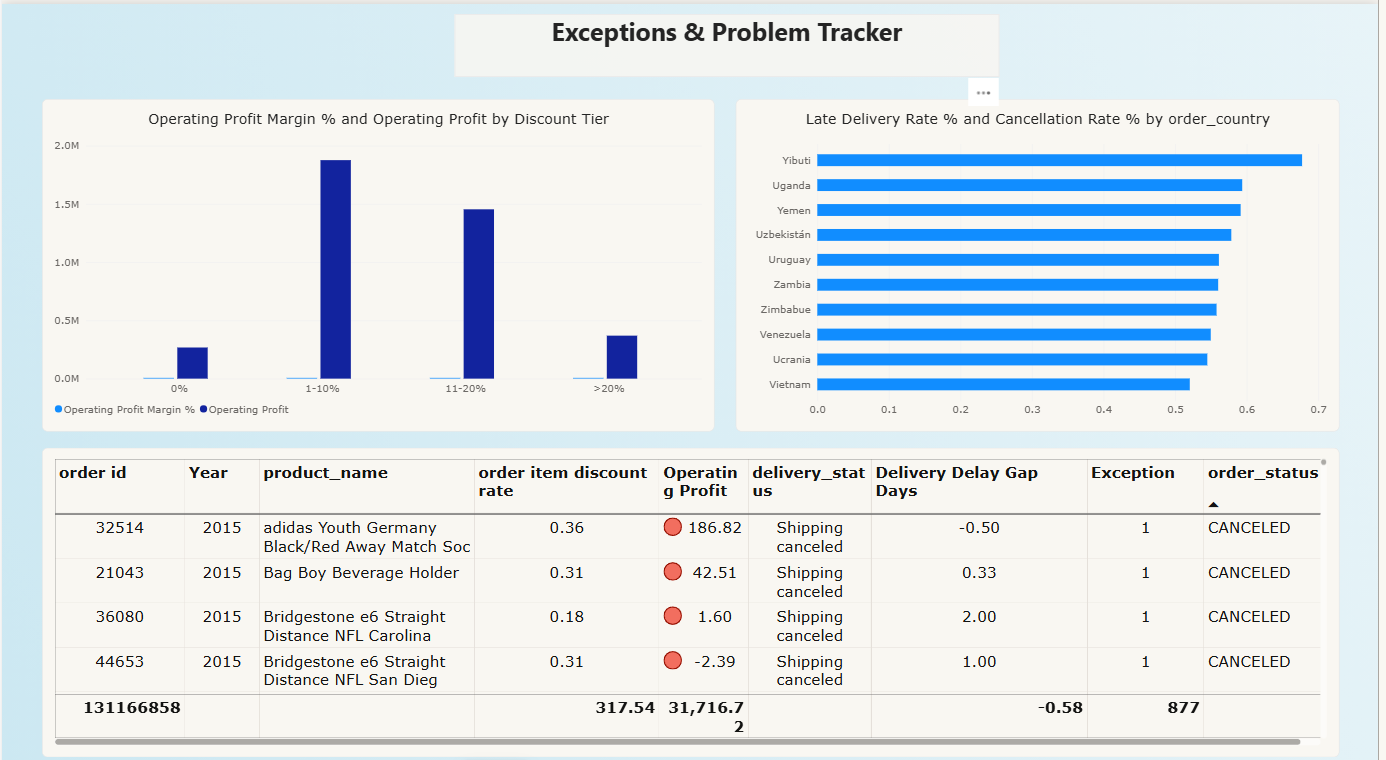

Layout of this report page (visuals, bound fields, positions):
{"tool":"powerbi","page":{"name":"Page 4","canvas":[1920,1080],"ordinal":3},"visuals":[{"type":"clusteredColumnChart","fields":{"Category":["fact_order_items.Discount Tier"],"Y":["_measure.Operating Profit Margin %","_measure.Operating Profit"]},"box":[56,132,938,464],"z":0},{"type":"clusteredBarChart","fields":{"Category":["fact_order_items.order_country"],"Y":["_measure.Late Delivery Rate %"]},"box":[1024,132,842,464],"z":1000},{"type":"tableEx","fields":{"Values":["Sum(fact_order_items.order_id)","fact_order_items.order_date.Variation.Date Hierarchy.Year","fact_order_items.product_name","Sum(fact_order_items.order_item_discount_rate)","_measure.Operating Profit","fact_order_items.delivery_status","_measure.Delivery Delay Gap Days","Sum(fact_order_items.Exception)","fact_order_items.order_status"]},"box":[56,620,1810,432],"z":2000},{"type":"textbox","title":"Exceptions & Problem Tracker","box":[632,14,760,88],"z":3000}]}

Visuals, with their boxes in screenshot pixels (x1, y1, x2, y2), scaled from the page's 1920x1080 canvas onto the 1386x760 screenshot:
clusteredColumnChart - fact_order_items.Discount Tier x _measure.Operating Profit Margin %: {"x1": 40, "y1": 93, "x2": 718, "y2": 419}
clusteredBarChart - fact_order_items.order_country x _measure.Late Delivery Rate %: {"x1": 739, "y1": 93, "x2": 1347, "y2": 419}
tableEx - Sum(fact_order_items.order_id) x fact_order_items.order_date.Variation.Date Hierarchy.Year: {"x1": 40, "y1": 436, "x2": 1347, "y2": 740}
"Exceptions & Problem Tracker" textbox: {"x1": 456, "y1": 10, "x2": 1005, "y2": 72}
